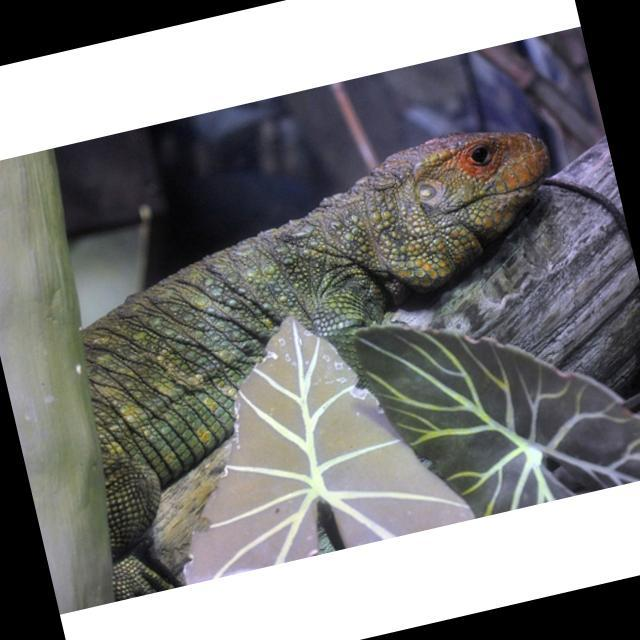KomodoDragon: (7, 53, 624, 598)
